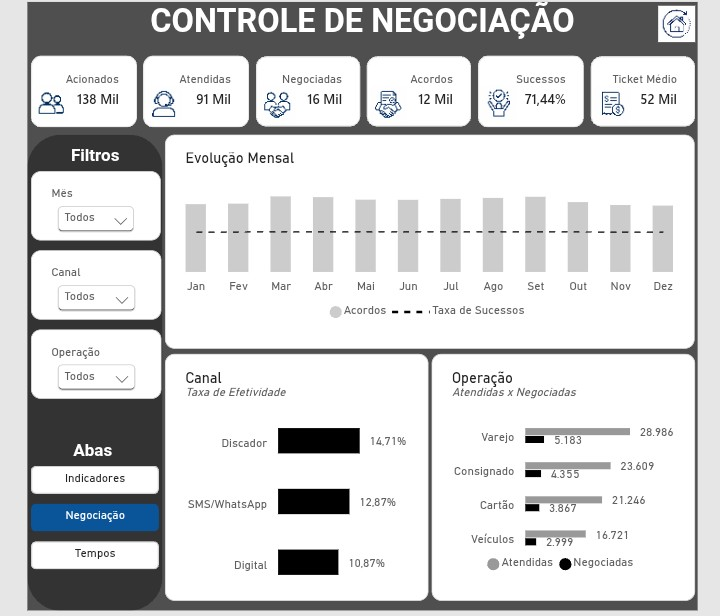

Layout of this report page (visuals, bound fields, positions):
{"tool":"powerbi","page":{"name":"Negociação","canvas":[550,500],"ordinal":2},"visuals":[{"type":"shape","box":[0,109,111,391],"z":0},{"type":"textbox","box":[0,0,550,46],"z":1000},{"type":"cardVisual","fields":{"Data":["Metricas.Pessoas Acionados"]},"box":[3,44,87,59],"z":1000,"group":"g1"},{"type":"lineClusteredColumnComboChart","title":"Evolução Mensal","fields":{"Category":["base_pessoas_2025.Mes Abreviado"],"Y":["Metricas.Acordos"],"Y2":["Metricas.%Taxa de Sucesso"]},"box":[113,109,435,176],"z":2000},{"type":"cardVisual","fields":{"Data":["Metricas.Pessoas Atendidas"]},"box":[94.8,44,87,59],"z":3000,"group":"g2"},{"type":"pageNavigator","box":[3,381,105,87],"z":3000},{"type":"cardVisual","fields":{"Data":["Metricas.%Taxa de Sucesso"]},"box":[370.2,44,87,59],"z":4000,"group":"g5"},{"type":"clusteredBarChart","title":"Canal","fields":{"Category":["base_pessoas_2025.Canal"],"Y":["Metricas.%Taxa de Efetividade"]},"box":[113,289,216,203],"z":4000},{"type":"cardVisual","fields":{"Data":["Metricas.TKM"]},"box":[462,44,87,59],"z":5000,"group":"g4"},{"type":"clusteredBarChart","title":"Operação","fields":{"Category":["base_pessoas_2025.Operacao"],"Y":["Metricas.Pessoas Atendidas","Metricas.Pessoas Negociadas"]},"box":[332,289,216,203],"z":5000},{"type":"textbox","box":[0,358,107,20],"z":6000},{"type":"slicer","title":"Mês","fields":{"Values":["base_pessoas_2025.Mes"]},"box":[2.8,139,106,57],"z":7000},{"type":"slicer","title":"Canal","fields":{"Values":["base_pessoas_2025.Canal"]},"box":[3,204,107,57],"z":8000},{"type":"slicer","title":"Operação","fields":{"Values":["base_pessoas_2025.Operacao"]},"box":[3,269,107,57],"z":9000},{"type":"image","box":[4,66,30,35],"z":10000,"group":"g1"},{"type":"textbox","box":[7,116,97,23],"z":10000},{"type":"group","id":"g1","title":"Grupo 1","box":[3,44,87,59],"z":11000},{"type":"image","box":[372.2,66,30,35],"z":11000,"group":"g5"},{"type":"group","id":"g2","title":"Grupo 2","box":[94.8,44,87,59],"z":12000},{"type":"image","box":[465,67,30,35],"z":12000,"group":"g4"},{"type":"group","id":"g3","title":"Grupo 3","box":[186.6,44,87,59],"z":13000},{"type":"group","id":"g4","title":"Grupo 4","box":[462,44,87,59],"z":14000},{"type":"group","id":"g5","title":"Grupo 5","box":[370.2,44,87,59],"z":15000},{"type":"group","id":"g6","title":"Grupo 3","box":[278.4,44,87,59],"z":16000},{"type":"image","box":[518,2,30,32],"z":17000},{"type":"image","box":[96.8,67,30,35],"z":18000,"group":"g2"},{"type":"cardVisual","fields":{"Data":["Metricas.Pessoas Negociadas"]},"box":[186.6,44,87,59],"z":19000,"group":"g3"},{"type":"cardVisual","fields":{"Data":["Metricas.Acordos"]},"box":[278.4,44,87,59],"z":19000,"group":"g6"},{"type":"image","box":[189.6,67,30,35],"z":20000,"group":"g3"},{"type":"image","box":[281.4,67,30,35],"z":20000,"group":"g6"}]}

Visuals, with their boxes on the page's 550x500 design canvas (x1, y1, x2, y2). These are canvas units, not pixel positions in the 720x616 screenshot, which may show the page scaled, cropped or inside an application window:
shape: pyautogui.locateOnScreen(0, 109, 111, 500)
textbox: pyautogui.locateOnScreen(0, 0, 550, 46)
cardVisual - Metricas.Pessoas Acionados: pyautogui.locateOnScreen(3, 44, 90, 103)
"Evolução Mensal" lineClusteredColumnComboChart: pyautogui.locateOnScreen(113, 109, 548, 285)
cardVisual - Metricas.Pessoas Atendidas: pyautogui.locateOnScreen(95, 44, 182, 103)
pageNavigator: pyautogui.locateOnScreen(3, 381, 108, 468)
cardVisual - Metricas.%Taxa de Sucesso: pyautogui.locateOnScreen(370, 44, 457, 103)
"Canal" clusteredBarChart: pyautogui.locateOnScreen(113, 289, 329, 492)
cardVisual - Metricas.TKM: pyautogui.locateOnScreen(462, 44, 549, 103)
"Operação" clusteredBarChart: pyautogui.locateOnScreen(332, 289, 548, 492)
textbox: pyautogui.locateOnScreen(0, 358, 107, 378)
"Mês" slicer: pyautogui.locateOnScreen(3, 139, 109, 196)
"Canal" slicer: pyautogui.locateOnScreen(3, 204, 110, 261)
"Operação" slicer: pyautogui.locateOnScreen(3, 269, 110, 326)
image: pyautogui.locateOnScreen(4, 66, 34, 101)
textbox: pyautogui.locateOnScreen(7, 116, 104, 139)
"Grupo 1" group: pyautogui.locateOnScreen(3, 44, 90, 103)
image: pyautogui.locateOnScreen(372, 66, 402, 101)
"Grupo 2" group: pyautogui.locateOnScreen(95, 44, 182, 103)
image: pyautogui.locateOnScreen(465, 67, 495, 102)
"Grupo 3" group: pyautogui.locateOnScreen(187, 44, 274, 103)
"Grupo 4" group: pyautogui.locateOnScreen(462, 44, 549, 103)
"Grupo 5" group: pyautogui.locateOnScreen(370, 44, 457, 103)
"Grupo 3" group: pyautogui.locateOnScreen(278, 44, 365, 103)
image: pyautogui.locateOnScreen(518, 2, 548, 34)
image: pyautogui.locateOnScreen(97, 67, 127, 102)
cardVisual - Metricas.Pessoas Negociadas: pyautogui.locateOnScreen(187, 44, 274, 103)
cardVisual - Metricas.Acordos: pyautogui.locateOnScreen(278, 44, 365, 103)
image: pyautogui.locateOnScreen(190, 67, 220, 102)
image: pyautogui.locateOnScreen(281, 67, 311, 102)
